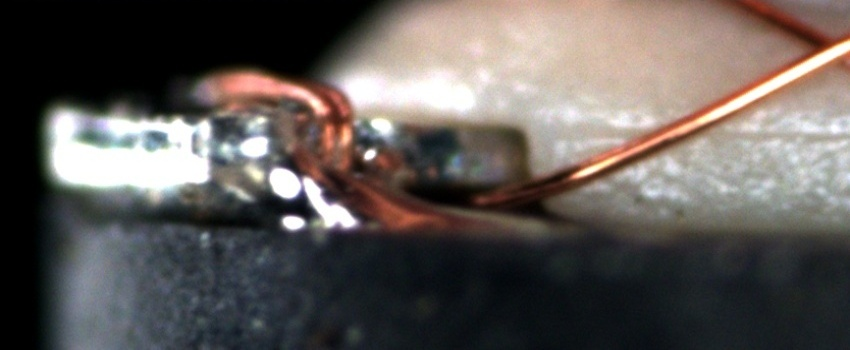CL: (783, 14, 847, 78)
DL: (576, 102, 849, 166)
TE: (181, 52, 363, 190)
